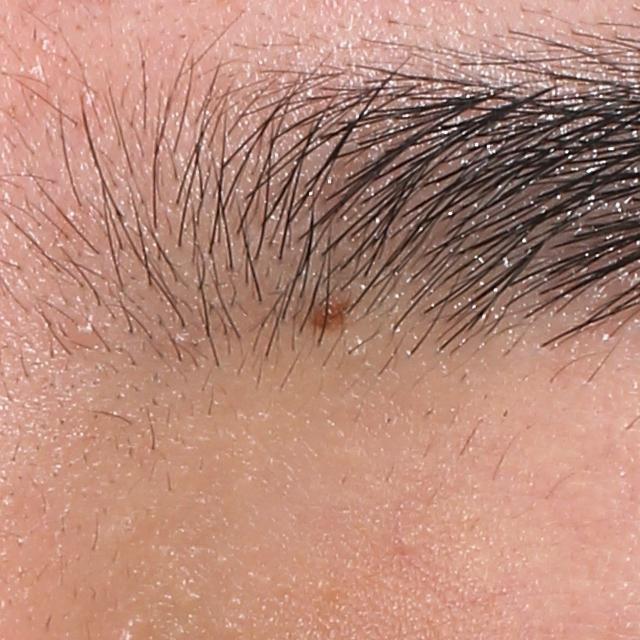comedo: (64, 320, 102, 347)
